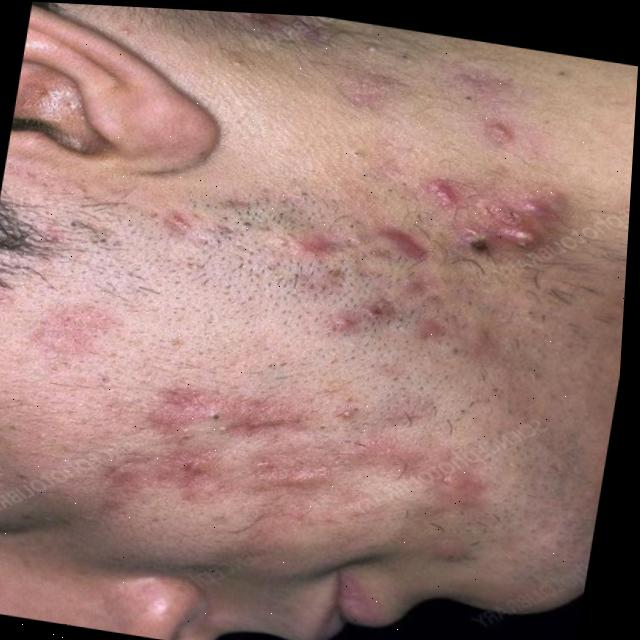Acne: (10, 37, 575, 579)
